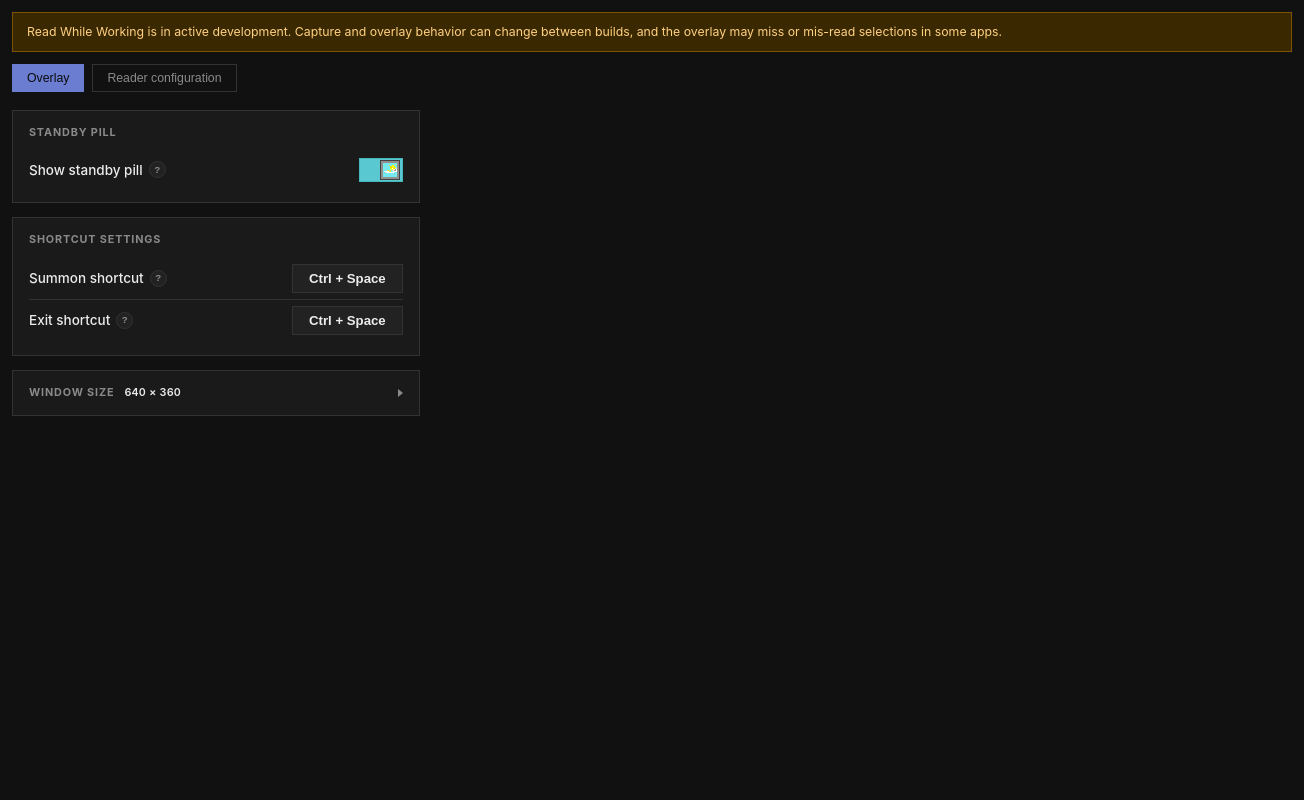
Test: RwwSettingsEditor › switches between Overlay and Reader configuration controls
This screenshot has width=1304, height=800.
Click the tab "Reader configuration".
click(164, 78)  # box left=92, top=64, right=237, bottom=92
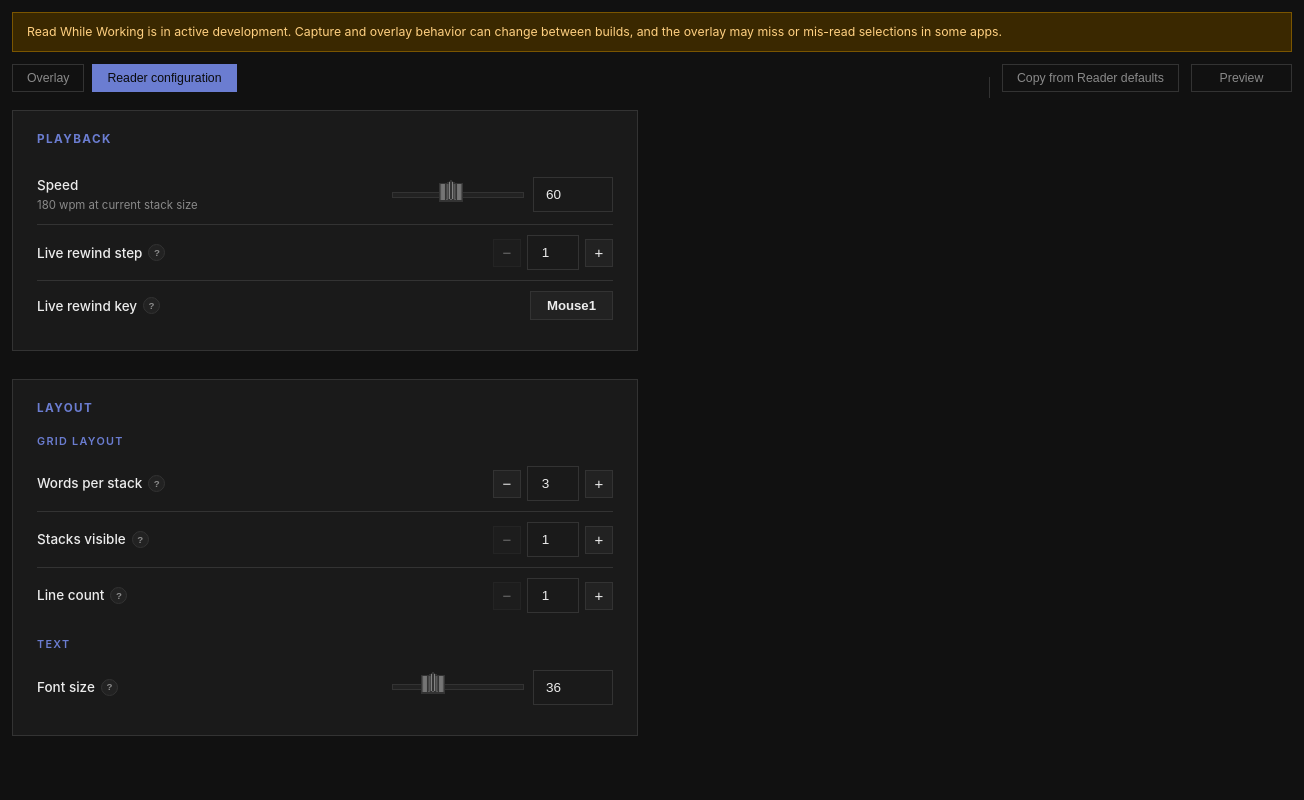
expect the panel named "Reader configuration" is shown: met, box left=12, top=110, right=638, bottom=736
expect the heading "Playback" is shown: met, box left=37, top=132, right=112, bottom=146
expect the heading "Layout" is shown: met, box left=37, top=401, right=93, bottom=415
